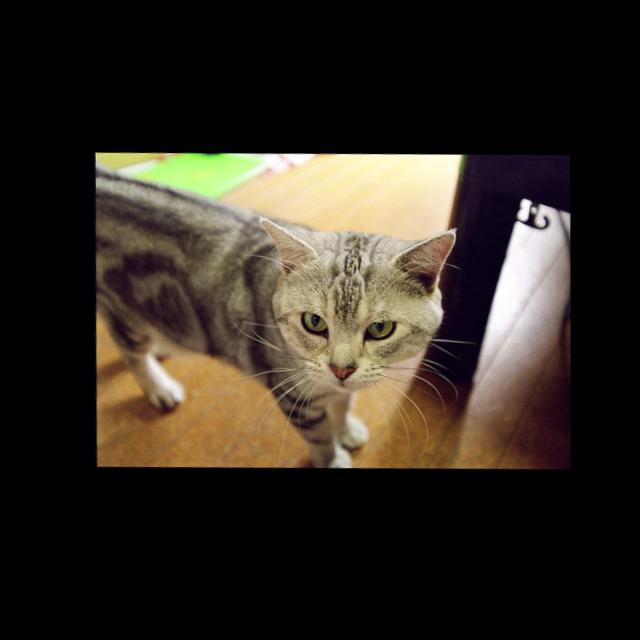animals: (254, 214, 456, 387)
